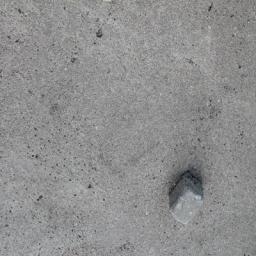FOD: (166, 170, 207, 226)
